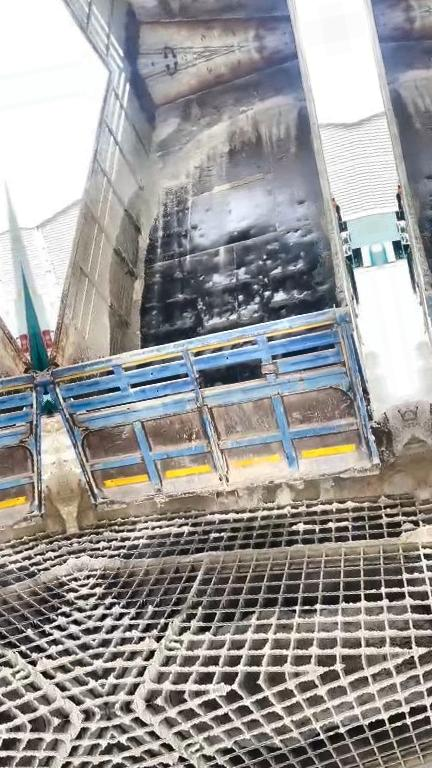sand: (125, 96, 297, 349), (99, 403, 423, 519), (78, 524, 432, 575), (133, 610, 182, 706), (64, 472, 99, 530), (157, 117, 178, 140)
